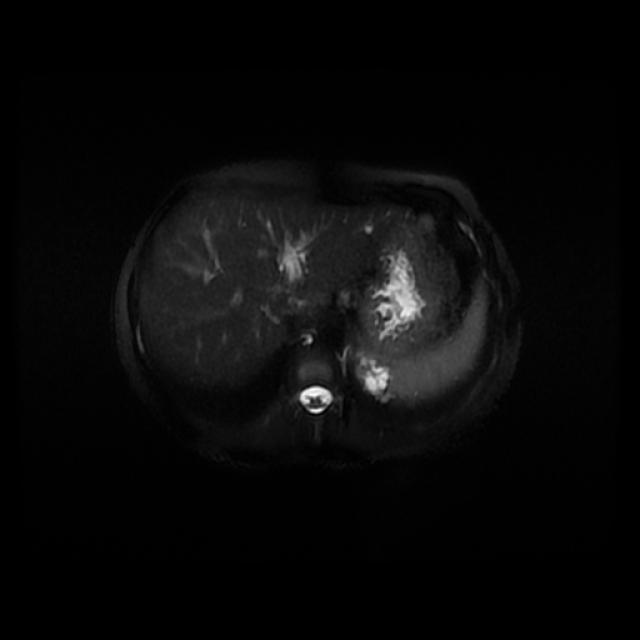sol: (357, 353, 395, 399)
